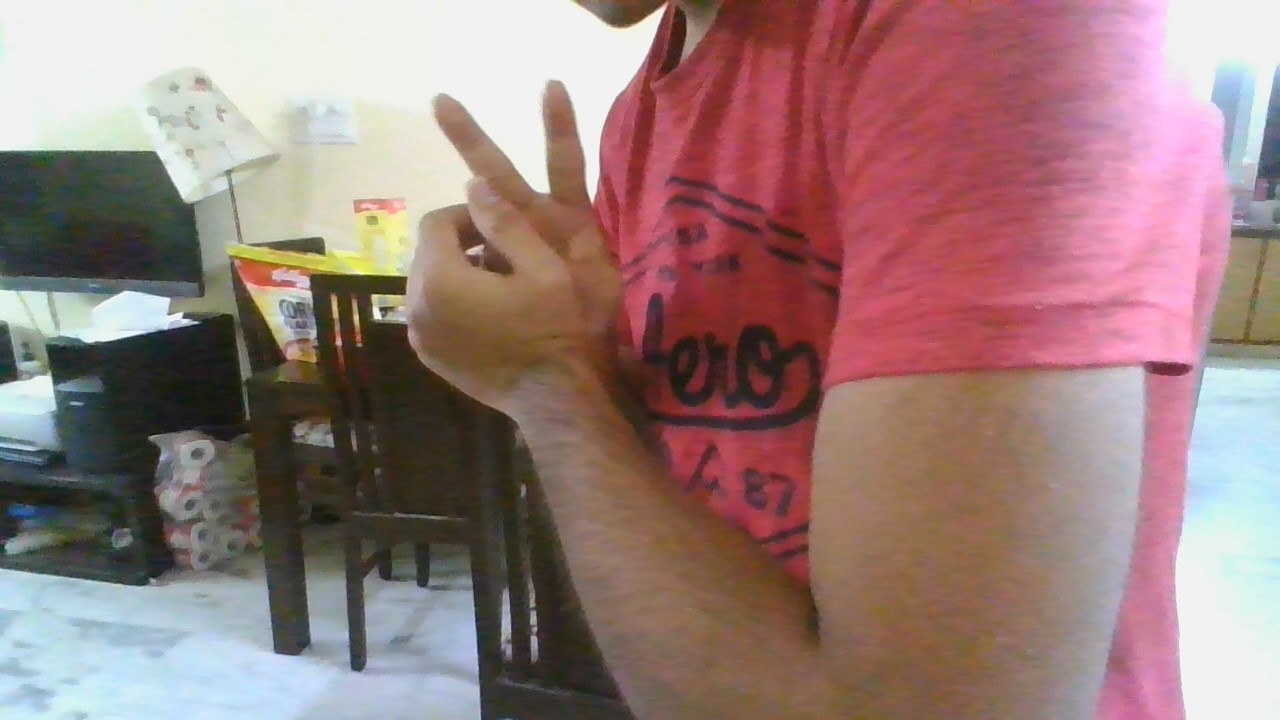v: (430, 55, 649, 361)
